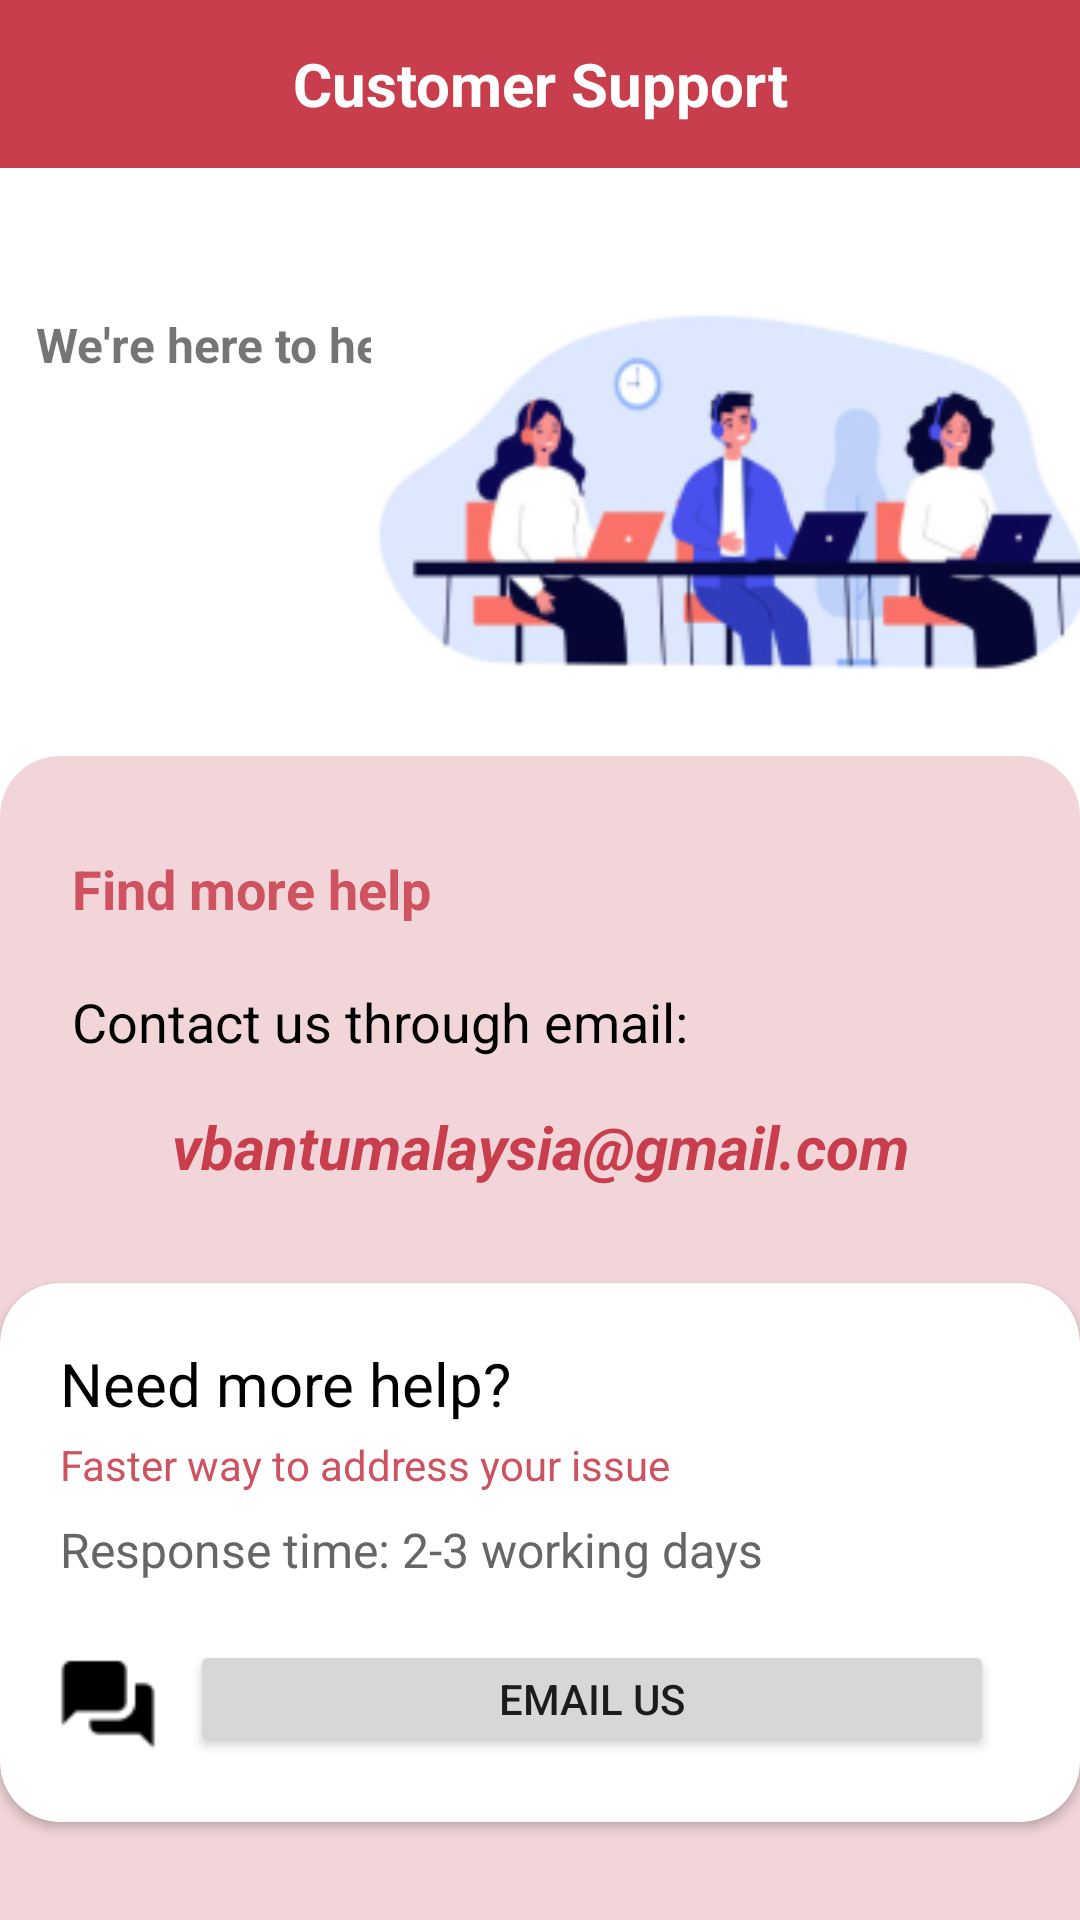

Where icons sit on this 1080 x 1920 app screen, as (x1, y1, x2, y2):
chat: (61, 1660, 155, 1748)
